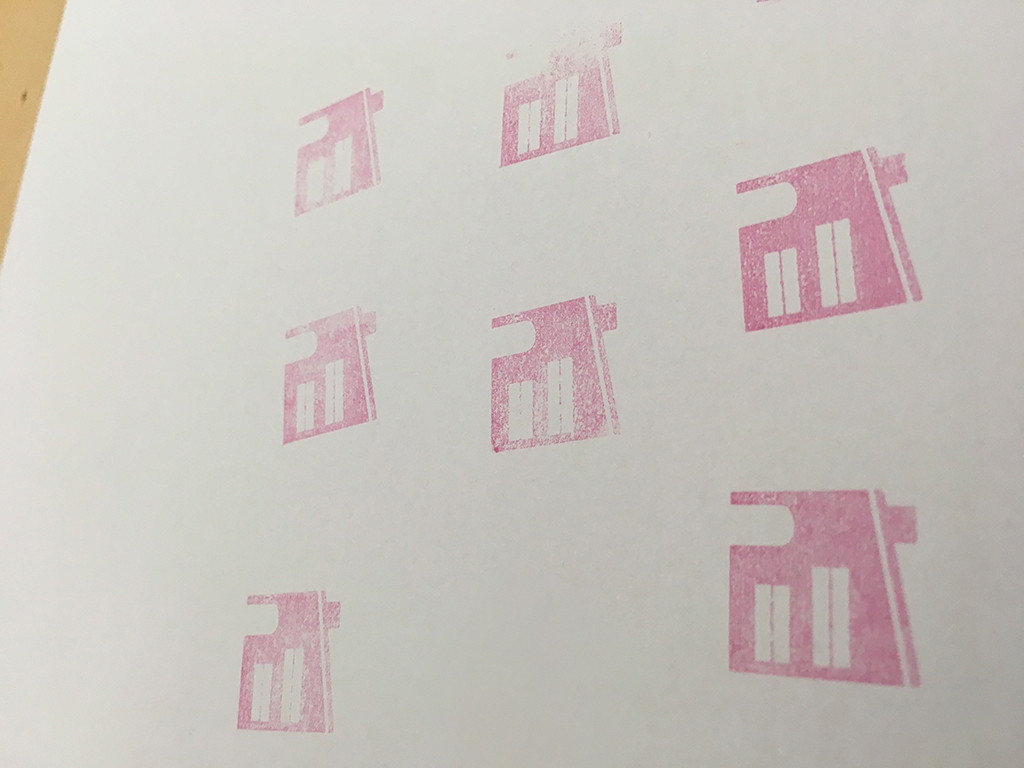house: (704, 474, 953, 701), (717, 132, 937, 338), (473, 283, 643, 462), (488, 12, 638, 179), (259, 292, 397, 456), (223, 586, 360, 742), (284, 72, 393, 226)
